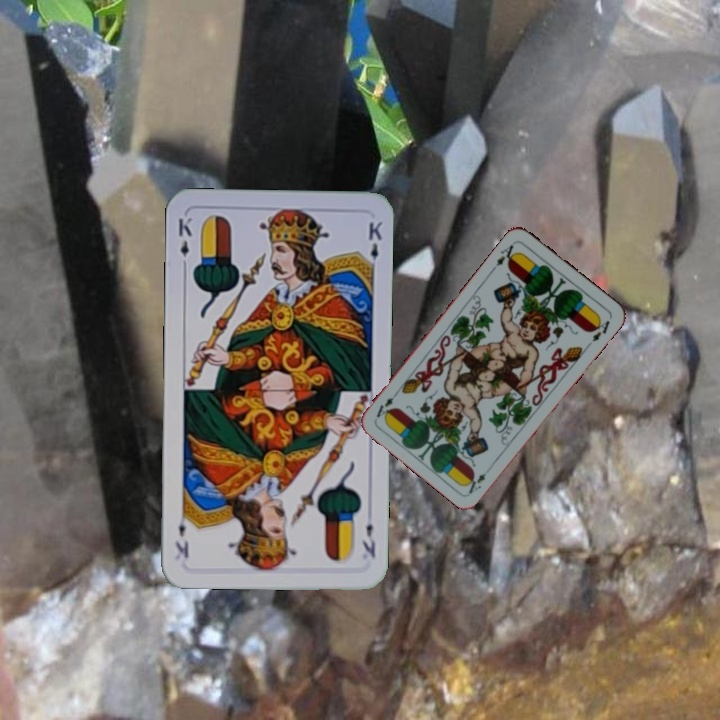EA: (488, 238, 520, 273), (463, 469, 488, 496)
EK: (174, 213, 194, 272), (358, 519, 378, 560)
